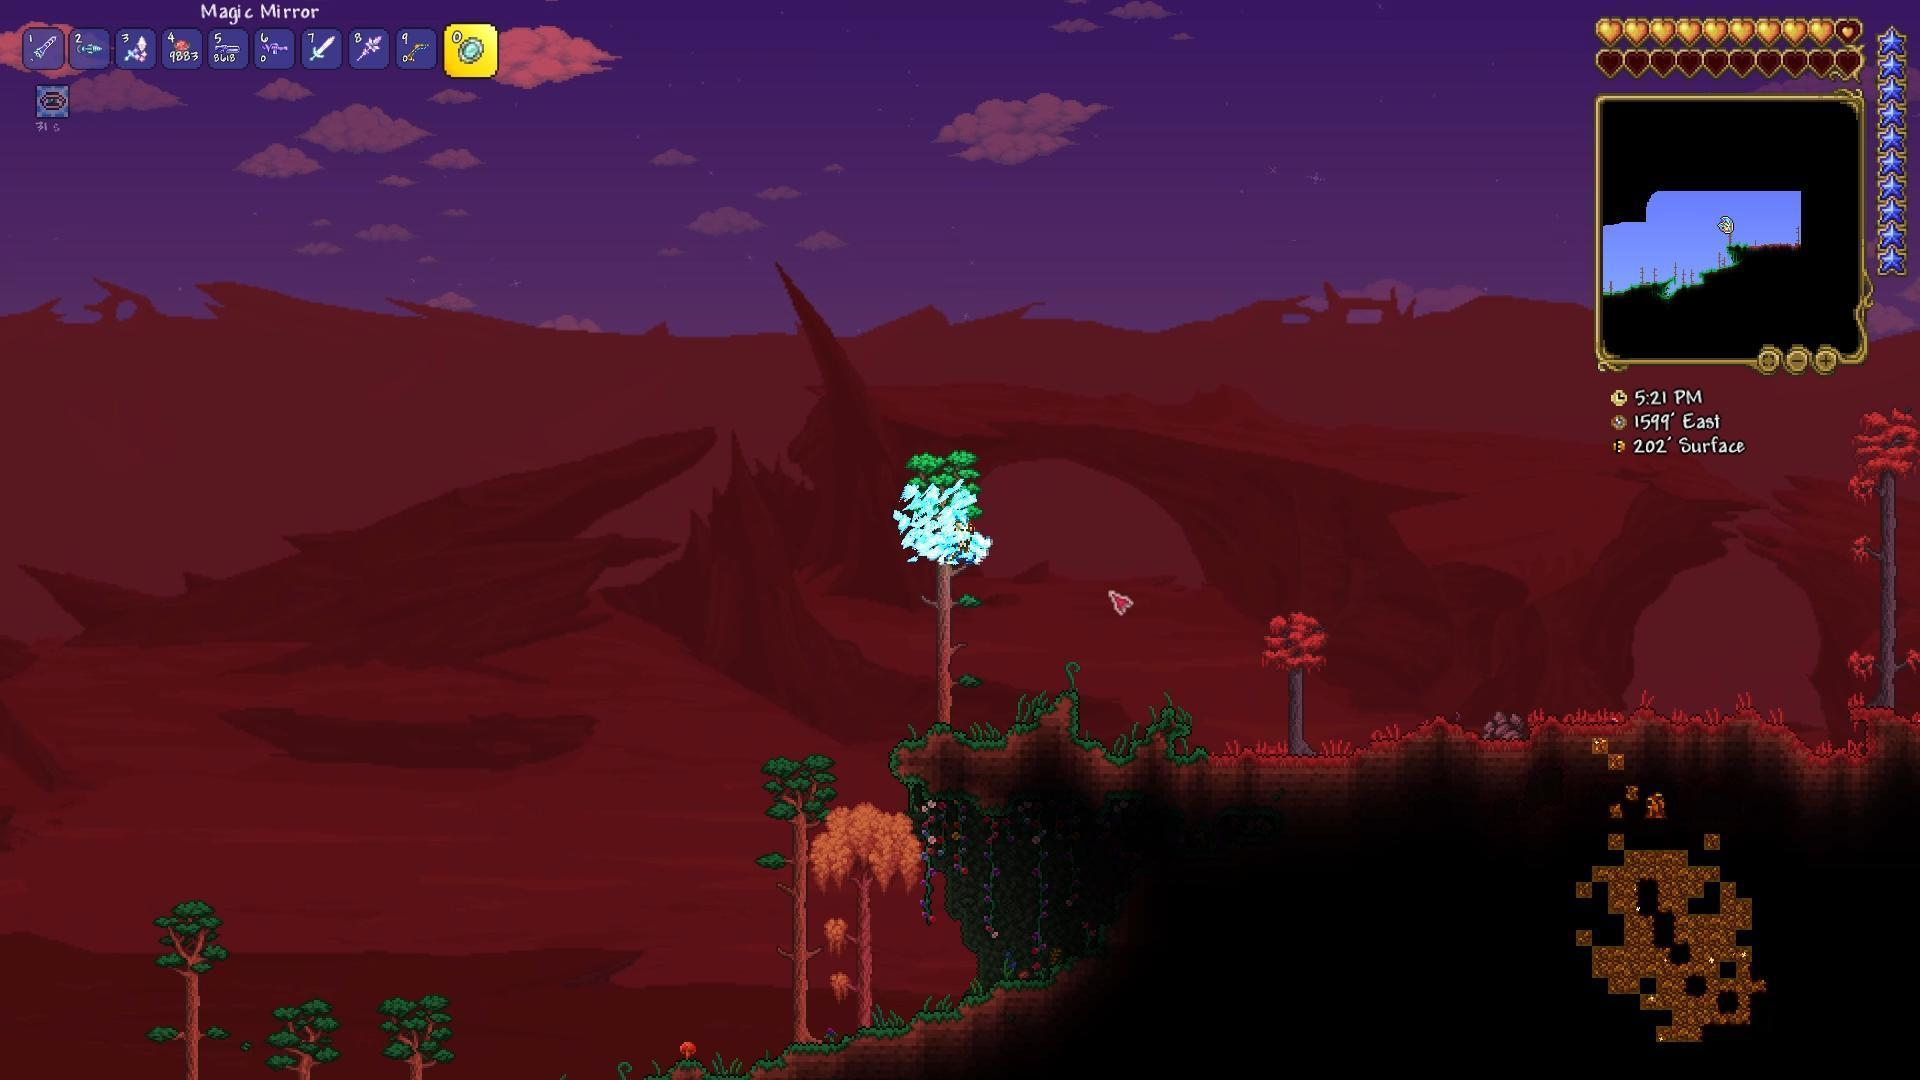mirror: (459, 36, 489, 65)
